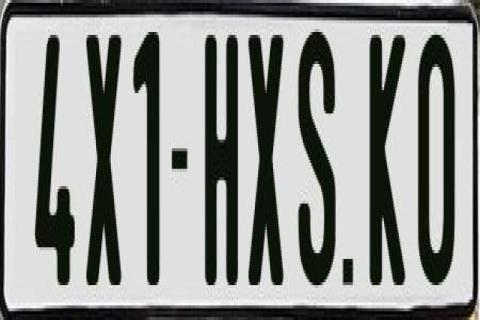0: (32, 29, 75, 294), (418, 35, 458, 299), (131, 26, 162, 282)
H: (202, 29, 240, 282)
K: (369, 29, 409, 282)
S: (297, 26, 335, 282)
X: (248, 29, 285, 297), (84, 32, 121, 296)
